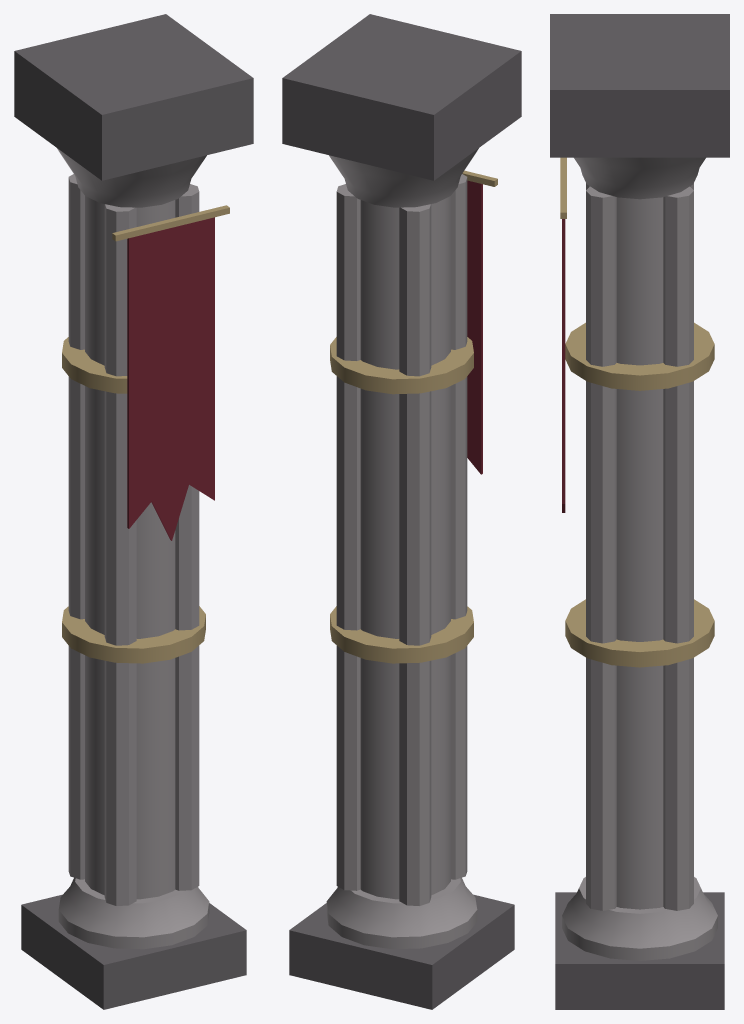
The model's file is pillar.glb.
3 renders of one model, left to right at view 1: azimuth 30°, elevation 25°; view 2: azimuth 150°, elevation 25°; view 3: azimuth 270°, elevation 25°, orthographic. The views are drawn at different scales.
Visible parts, largest first — view 1: Pillar; view 2: Pillar; view 3: Pillar.
Boxes of the visible parts, x1=… form: Pillar: x1=14, y1=14, x2=253, y2=1009; Pillar: x1=282, y1=14, x2=521, y2=1009; Pillar: x1=550, y1=14, x2=729, y2=1009.
Bounding box in the file's own units: 1.06 × 6 × 1.06.
